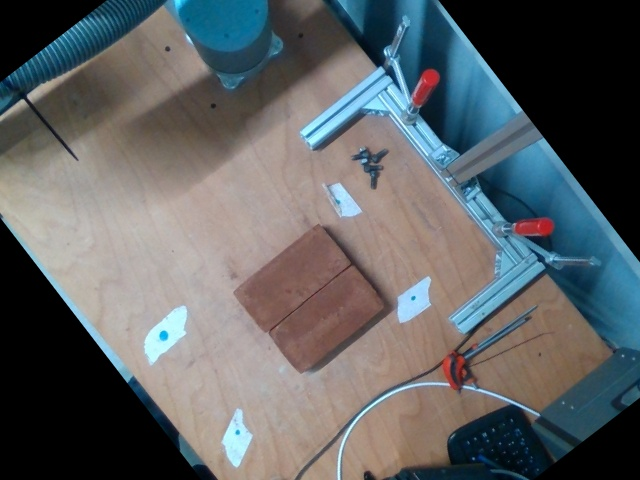brick: (266, 264, 383, 374), (231, 223, 349, 332)
